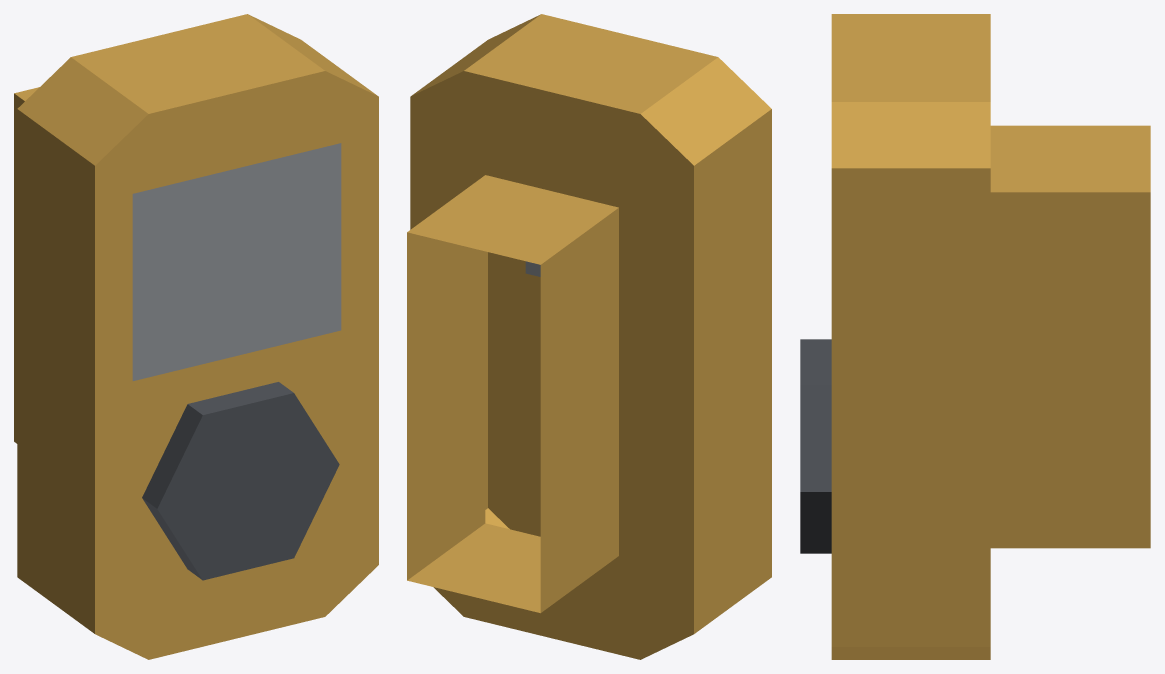
Rendered from SM_Prop_LightPole_CrossButton_01.fbx.
3 renders of one model, left to right at view 1: azimuth 30°, elevation 25°; view 2: azimuth 150°, elevation 25°; view 3: azimuth 270°, elevation 25°, orthographic. The views are drawn at different scales.
Visible parts, largest first — view 1: SM_Prop_LightPole_CrossButton_01; view 2: SM_Prop_LightPole_CrossButton_01; view 3: SM_Prop_LightPole_CrossButton_01.
Part boxes in pixels (bbox=[...]): SM_Prop_LightPole_CrossButton_01: bbox=[14, 14, 378, 659]; SM_Prop_LightPole_CrossButton_01: bbox=[407, 14, 771, 659]; SM_Prop_LightPole_CrossButton_01: bbox=[800, 14, 1150, 659].
Size of the model in its own units: 16.26 by 29.89 by 17.01.
